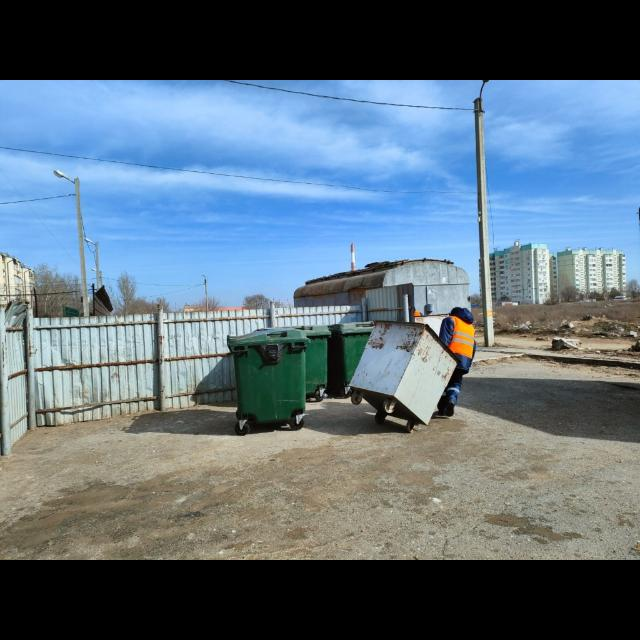Trash_Can_Closed: (227, 328, 309, 425)
